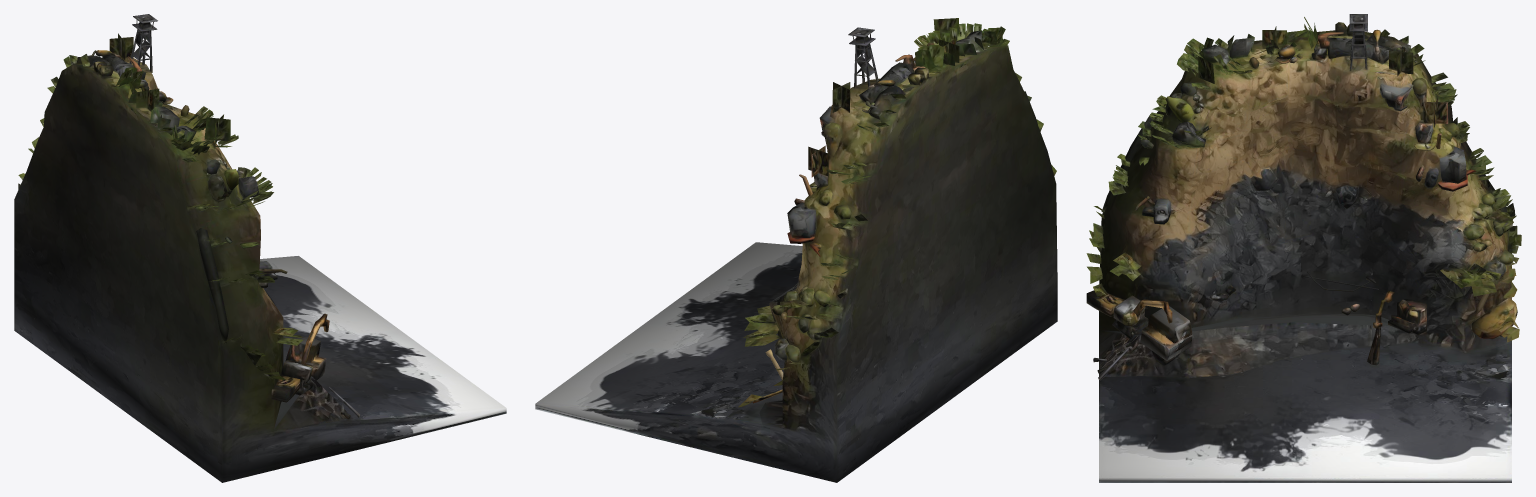
The model's file is landmark-quarry-pit.glb.
The picture shows the model from 3 angles, left to right: view 1: azimuth 30°, elevation 25°; view 2: azimuth 150°, elevation 25°; view 3: azimuth 270°, elevation 25°; orthographic projection. The views are drawn at different scales.
Parts seen in each view (by area): view 1: landmark-quarry-pit; view 2: landmark-quarry-pit; view 3: landmark-quarry-pit.
Part boxes in pixels (x1,y1,x2,y2): landmark-quarry-pit: [14, 14, 506, 482]; landmark-quarry-pit: [535, 18, 1057, 482]; landmark-quarry-pit: [1086, 14, 1521, 482].
Size of the model in its own units: 0.7485 by 0.896 by 0.9995.
1 material, 1 textured.
